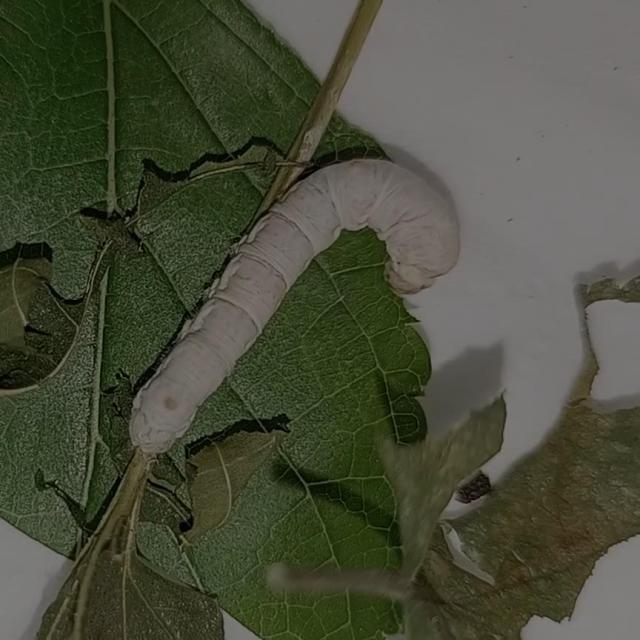Healthy: (110, 130, 536, 498)
